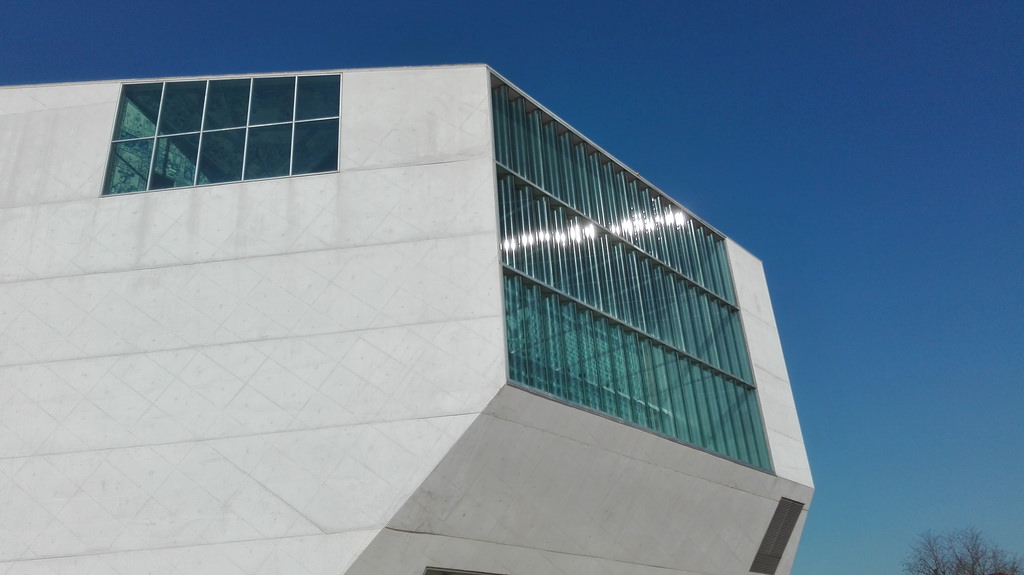musica: (0, 62, 817, 574)
